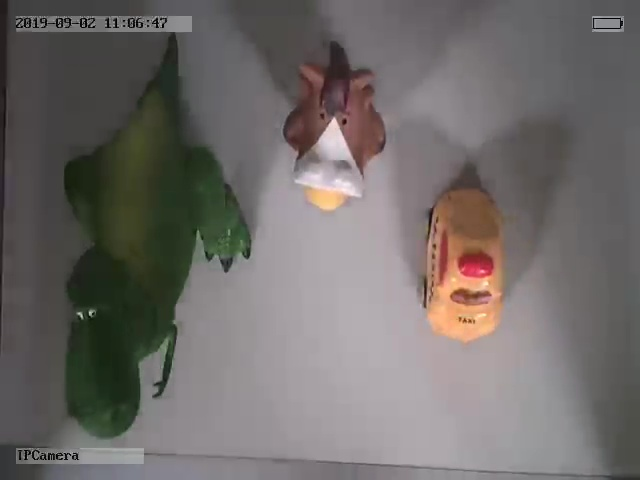car: (421, 184, 505, 343)
horse: (281, 42, 388, 212)
rex: (63, 63, 252, 438)
